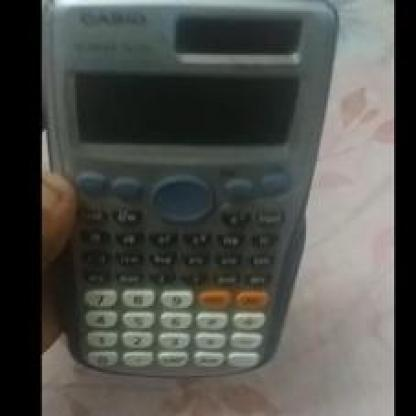calculator: (47, 0, 336, 384)
